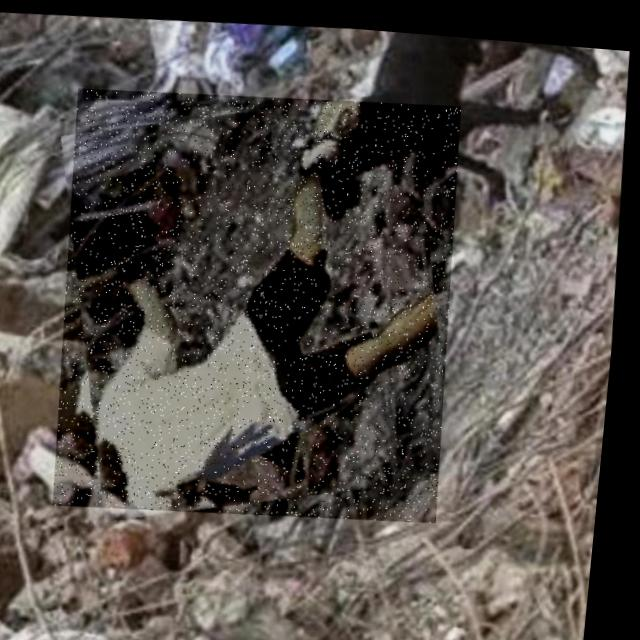Person in Rubble: (48, 72, 477, 526)
